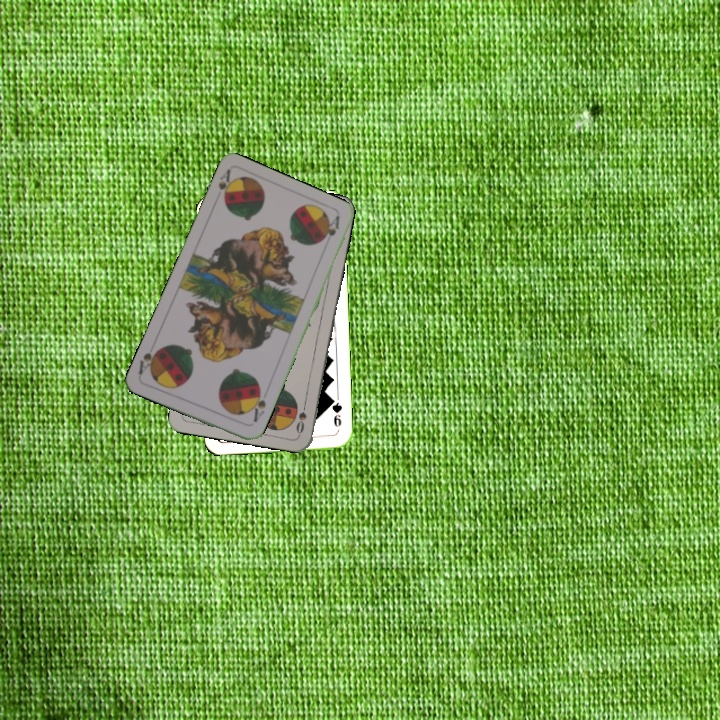G9: (327, 394, 344, 434)
SA: (246, 386, 269, 425), (214, 166, 237, 205)
SO: (292, 396, 309, 436)
